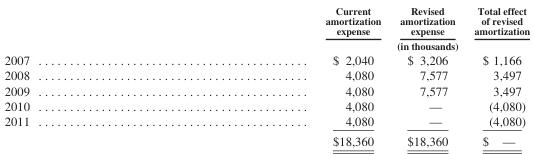table: (3, 4, 529, 147)
table column: (176, 4, 389, 147), (3, 4, 176, 147), (389, 4, 464, 147), (464, 4, 529, 147)
table column header: (3, 4, 529, 52)
table row: (3, 4, 529, 38), (3, 113, 529, 130), (3, 130, 529, 147), (3, 97, 529, 113), (3, 52, 529, 67), (3, 67, 529, 82), (3, 82, 529, 97), (3, 38, 529, 52)
table spanning cell: (176, 38, 529, 52)
